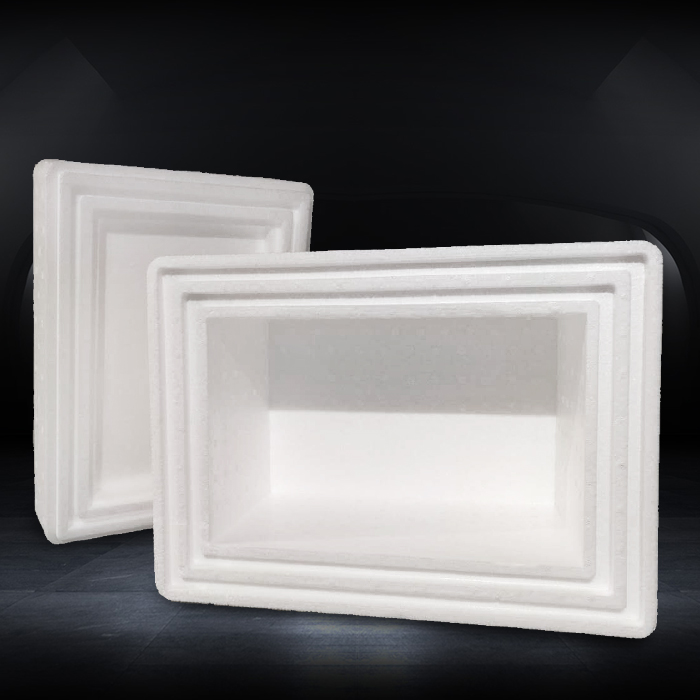泡沫箱: (33, 160, 661, 638)
